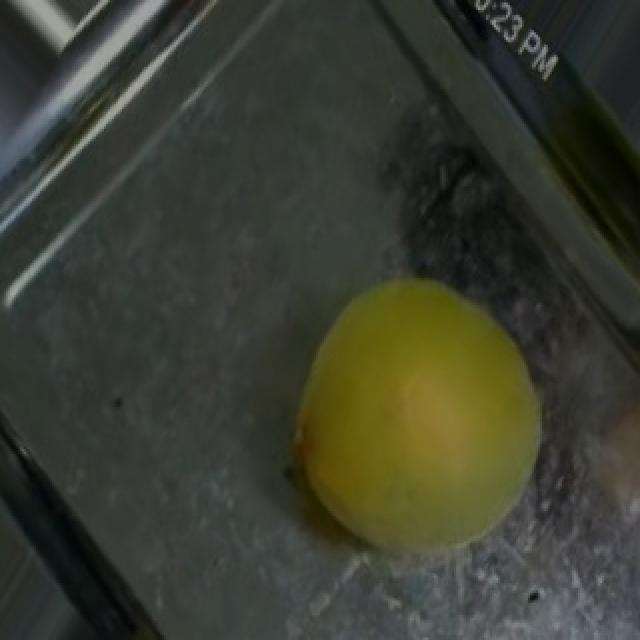fruit: (250, 221, 602, 603)
